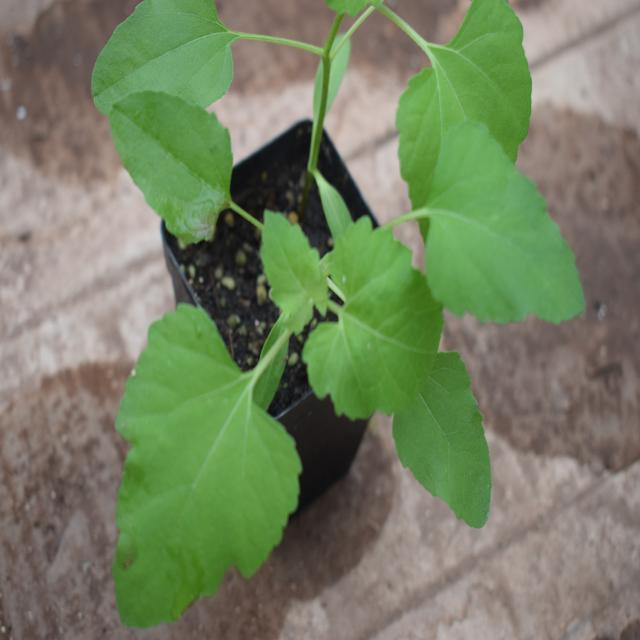cocklebur: (59, 92, 576, 567)
